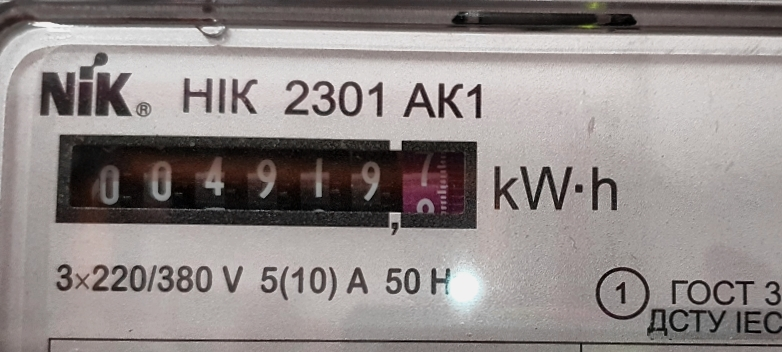0: (147, 156, 174, 202), (96, 160, 121, 205)
1: (310, 153, 326, 199)
4: (201, 152, 225, 196)
7: (411, 148, 435, 188)
9: (358, 156, 381, 203), (254, 156, 278, 200)
screen: (43, 119, 494, 246)
